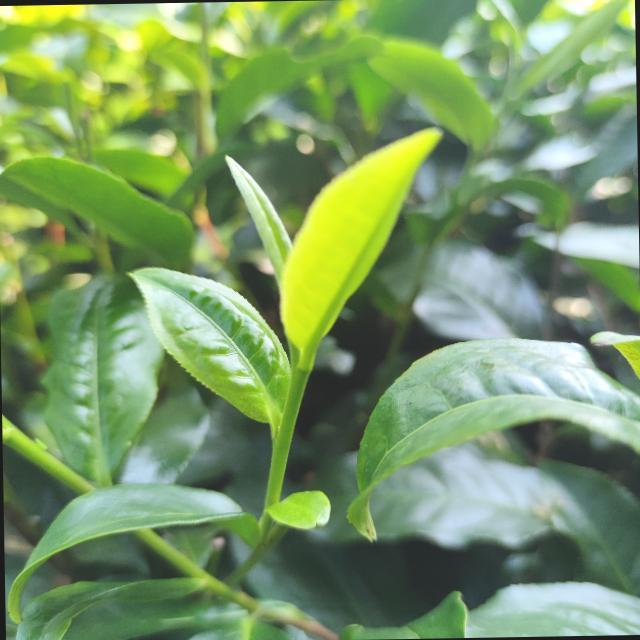Stem: (270, 442, 290, 476)
